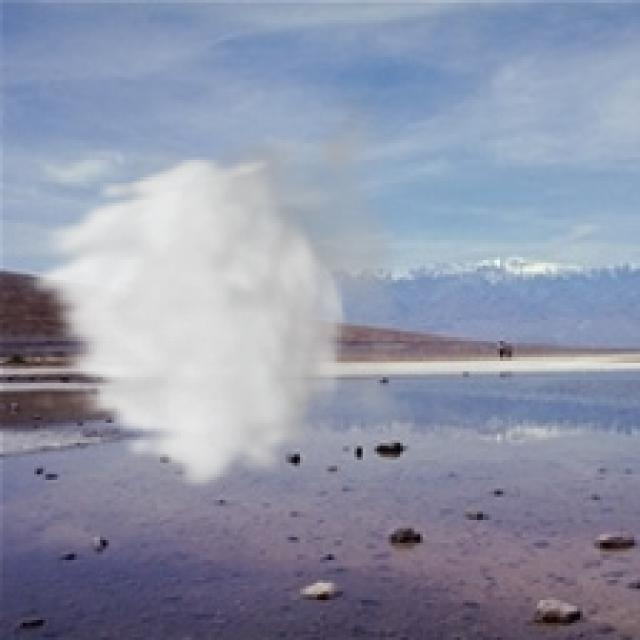smoke: (20, 83, 426, 491)
